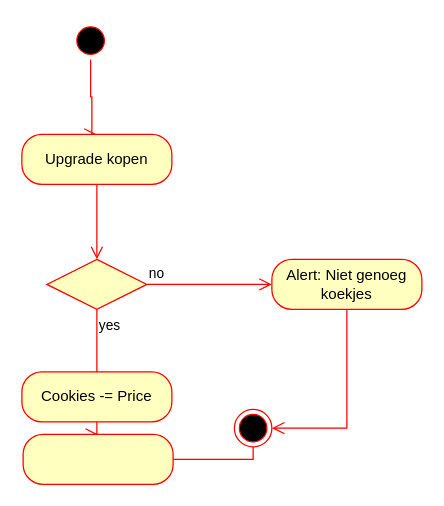
Some shapes in this 444 by 506 pixel diagram are drawn without their labels. The box of each missing label's shape, as (x1, y1, x2, y2) in pixels:
AutoClickers += 1: (22, 433, 173, 484)
Genoeg koekjes?: (46, 258, 147, 309)
